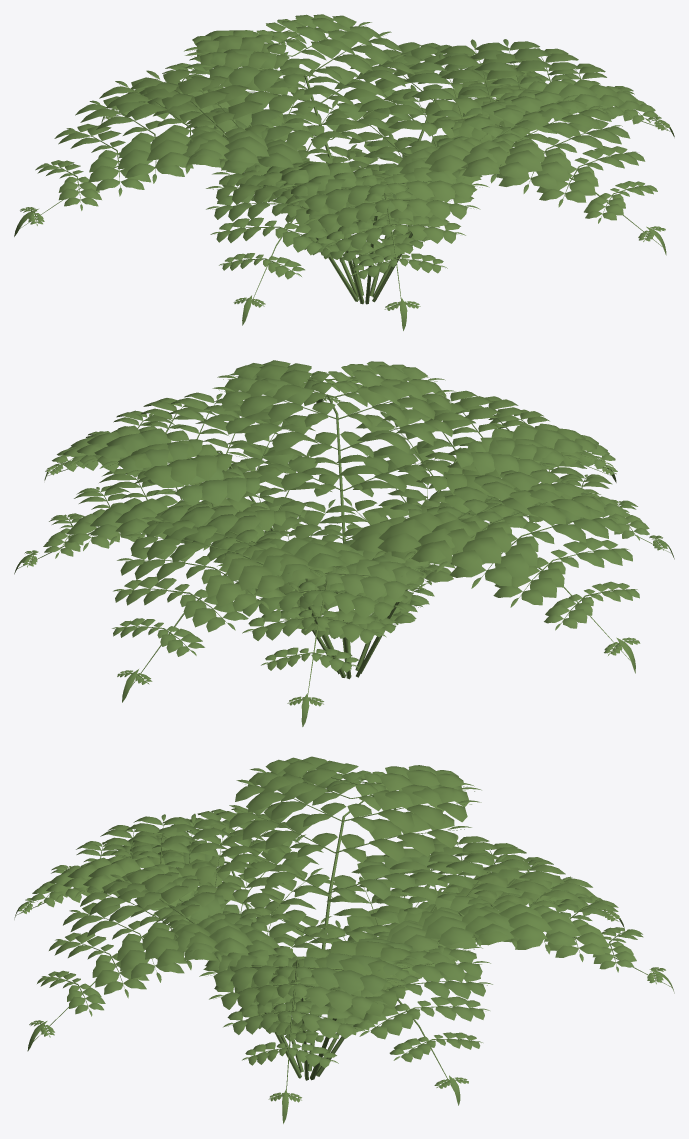
Rendered from corealm_fern_1_before.glb.
3 renders of one model, top to bottom at view 1: azimuth 30°, elevation 25°; view 2: azimuth 150°, elevation 25°; view 3: azimuth 270°, elevation 25°, orthographic. The views are drawn at different scales.
Parts seen in each view (by area): view 1: corealm_fern_1; view 2: corealm_fern_1; view 3: corealm_fern_1.
Part boxes in pixels (bbox=[...]): corealm_fern_1: bbox=[14, 14, 674, 330]; corealm_fern_1: bbox=[14, 360, 674, 726]; corealm_fern_1: bbox=[14, 756, 674, 1123].
Size of the model in its own units: 1.92 by 0.6294 by 1.77.
